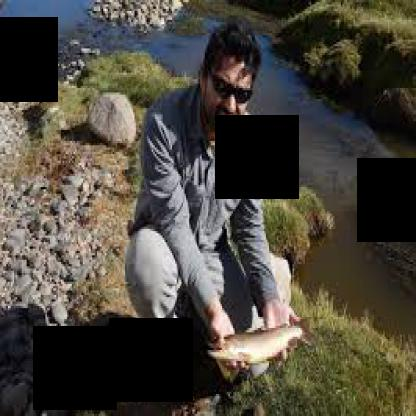fish: (204, 314, 315, 366)
